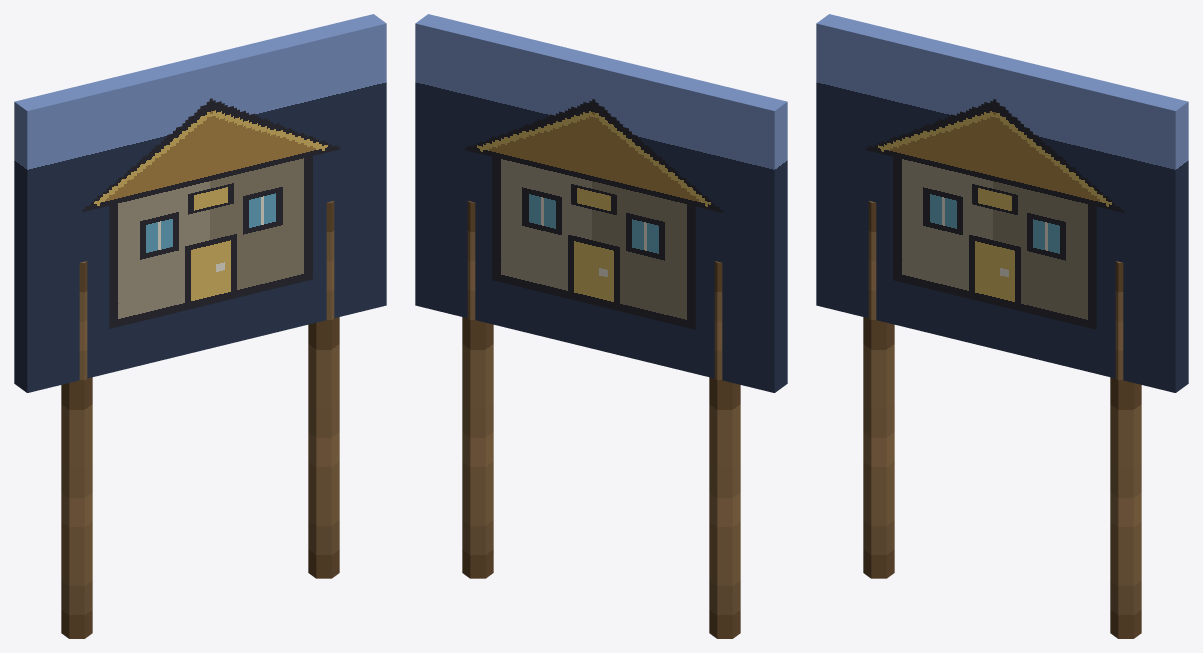
File: sign_workshop.glb
3 renders of one model, left to right at view 1: azimuth 30°, elevation 25°; view 2: azimuth 150°, elevation 25°; view 3: azimuth 330°, elevation 25°, orthographic.
Parts seen in each view (by area): view 1: sign_workshop; view 2: sign_workshop; view 3: sign_workshop.
Part boxes in pixels (x1=…): sign_workshop: x1=14, y1=14, x2=386, y2=638; sign_workshop: x1=415, y1=14, x2=787, y2=638; sign_workshop: x1=816, y1=14, x2=1188, y2=638.
Bounding box in the file's own units: 1.6 × 2.3 × 0.14.
3 materials, 3 textured.
